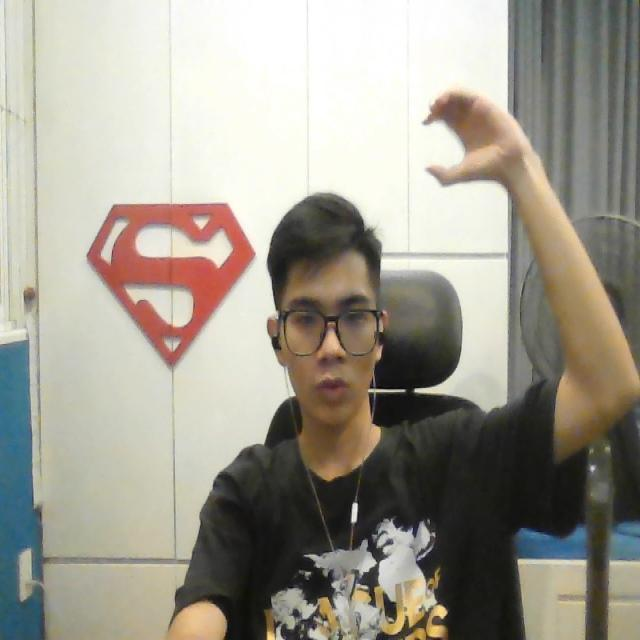C: (415, 82, 509, 188)
